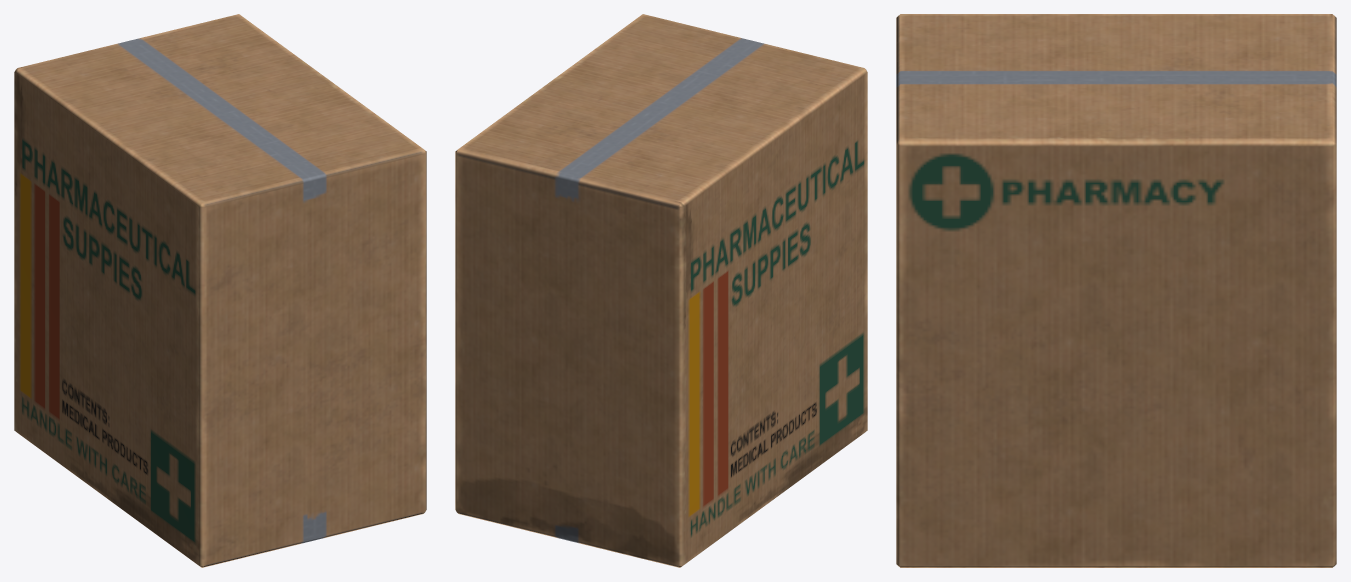
File: HH_Cardboard_Box_03.fbx
3 views of the same model, side by side, from view 1: azimuth 30°, elevation 25°; view 2: azimuth 150°, elevation 25°; view 3: azimuth 270°, elevation 25° (orthographic). The views are drawn at different scales.
Parts seen in each view (by area): view 1: HH_Cardboard_Box_03; view 2: HH_Cardboard_Box_03; view 3: HH_Cardboard_Box_03.
Boxes of the visible parts, <box> form: HH_Cardboard_Box_03: <box>14,14,426,567</box>; HH_Cardboard_Box_03: <box>455,14,867,567</box>; HH_Cardboard_Box_03: <box>896,14,1336,567</box>.
Size of the model in its own units: 26.91 by 41.21 by 38.47.
